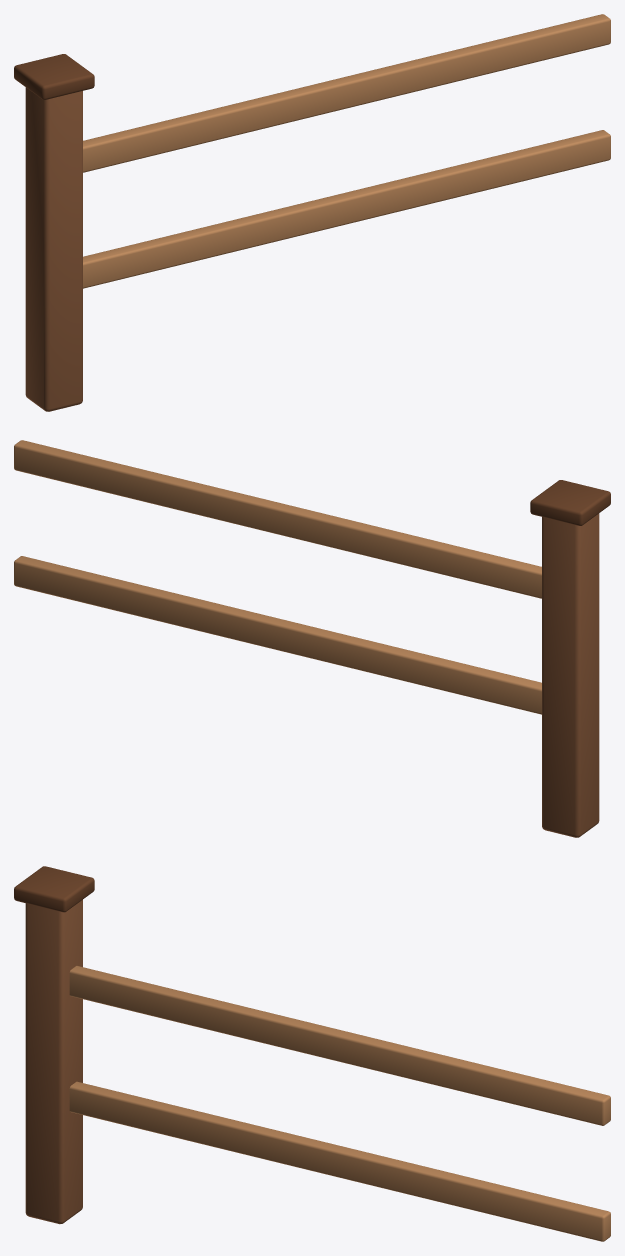
Rendered from fence.glb.
3 renders of one model, top to bottom at view 1: azimuth 30°, elevation 25°; view 2: azimuth 150°, elevation 25°; view 3: azimuth 330°, elevation 25°, orthographic.
Visible parts, largest first — view 1: Body; view 2: Body; view 3: Body.
Boxes of the visible parts, <box> form: Body: <box>14,14,610,411</box>; Body: <box>14,440,610,837</box>; Body: <box>14,866,610,1241</box>.
Bounding box in the file's own units: 2.09 × 1.14 × 0.19.
